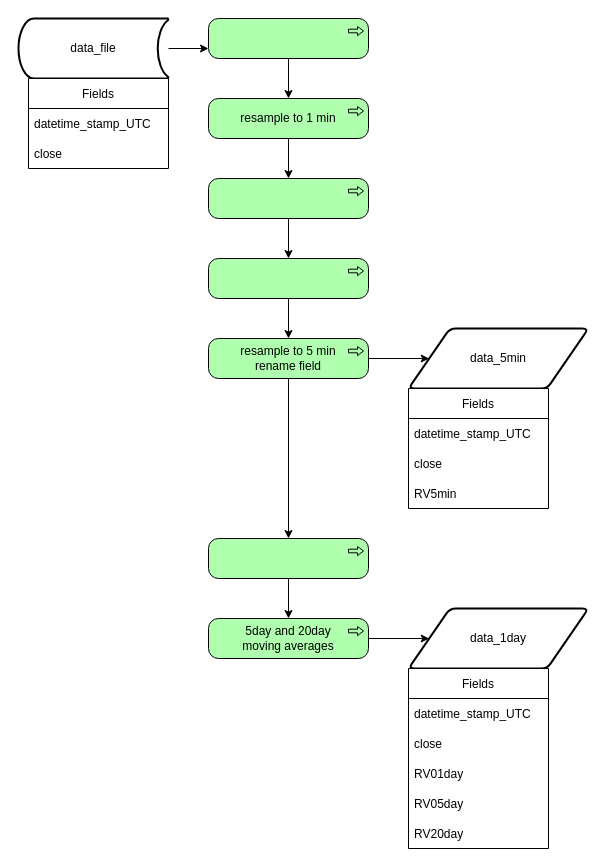
Image size: 606x866. Some labels were removed from this diagram. The shapes that lost their labels are listed below. From the top down, each one's centre as x and y in pixels, then its label:
At [288,38]: "Read file".
At [288,198]: "get log-returns".
At [288,278]: "filter trading period (gets rid on o/n returns)".
At [288,558]: "resample to daily".
